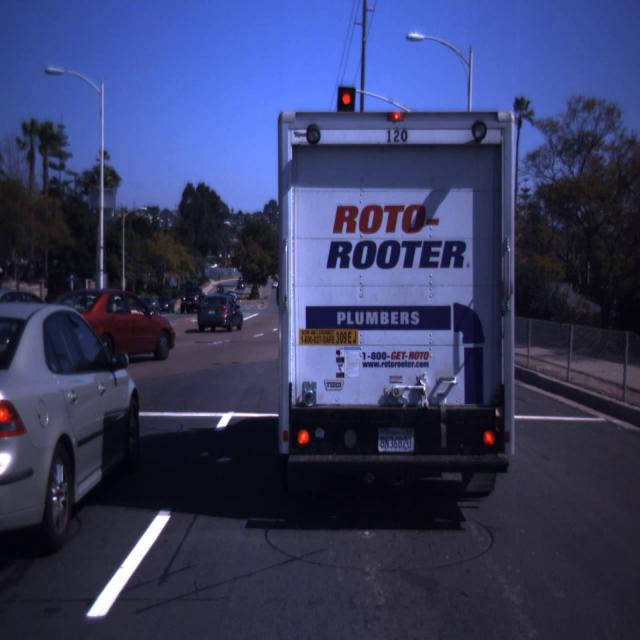stop: (336, 90, 357, 132)
stop traffic light: (336, 90, 357, 132)
